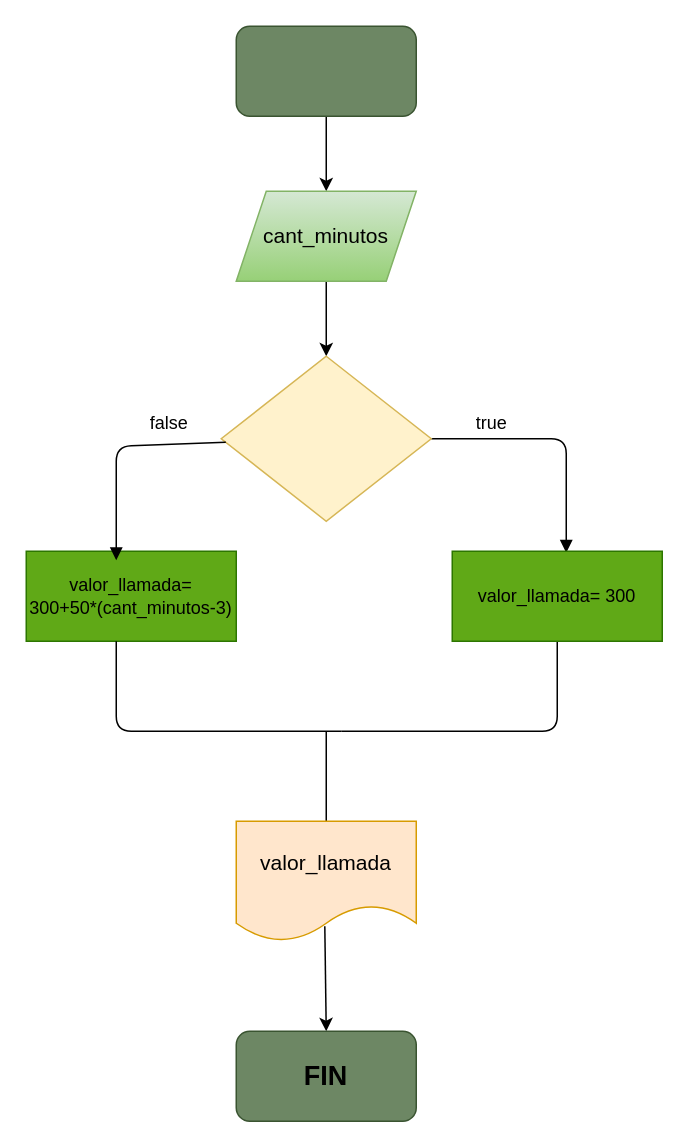
The diagram is 689 pixels wide and 1148 high, and some of its shapes have lost their labels. Each missing label, with the centre of its shape:
"cant_minutos<=3" goes at point 325,438.
"INICIO" goes at point 325,70.
